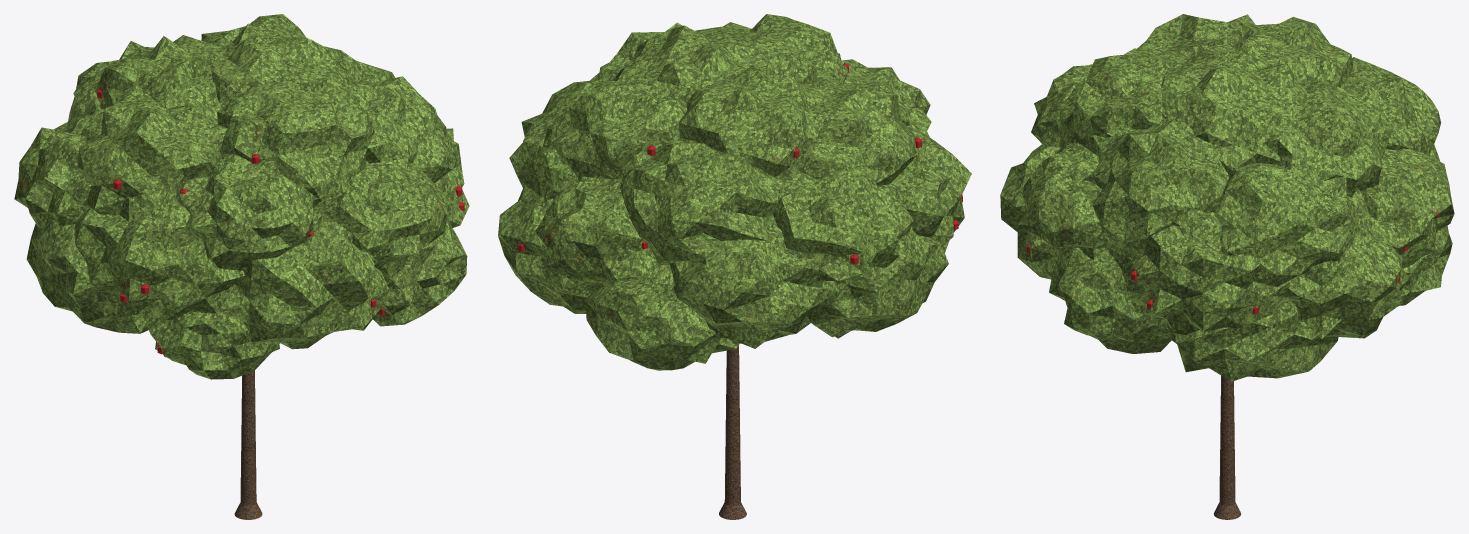
The picture shows the model from 3 angles, left to right: view 1: azimuth 30°, elevation 25°; view 2: azimuth 150°, elevation 25°; view 3: azimuth 270°, elevation 25°; orthographic projection.
Parts seen in each view (by area): view 1: canopyDiameter=3.5;clearTrunkHeight=1.2;foliageMaterial=foli (×3); view 2: canopyDiameter=3.5;clearTrunkHeight=1.2;foliageMaterial=foli (×2); view 3: canopyDiameter=3.5;clearTrunkHeight=1.2;foliageMaterial=foli (×2).
Boxes of the visible parts, x1=… form: canopyDiameter=3.5;clearTrunkHeight=1.2;foliageMaterial=foli (×3): x1=14, y1=14, x2=469, y2=519; canopyDiameter=3.5;clearTrunkHeight=1.2;foliageMaterial=foli (×2): x1=498, y1=14, x2=971, y2=519; canopyDiameter=3.5;clearTrunkHeight=1.2;foliageMaterial=foli (×2): x1=1000, y1=14, x2=1454, y2=519.
Bounding box in the file's own units: 3.5 × 3.5 × 4.
3 materials, 2 textured.
